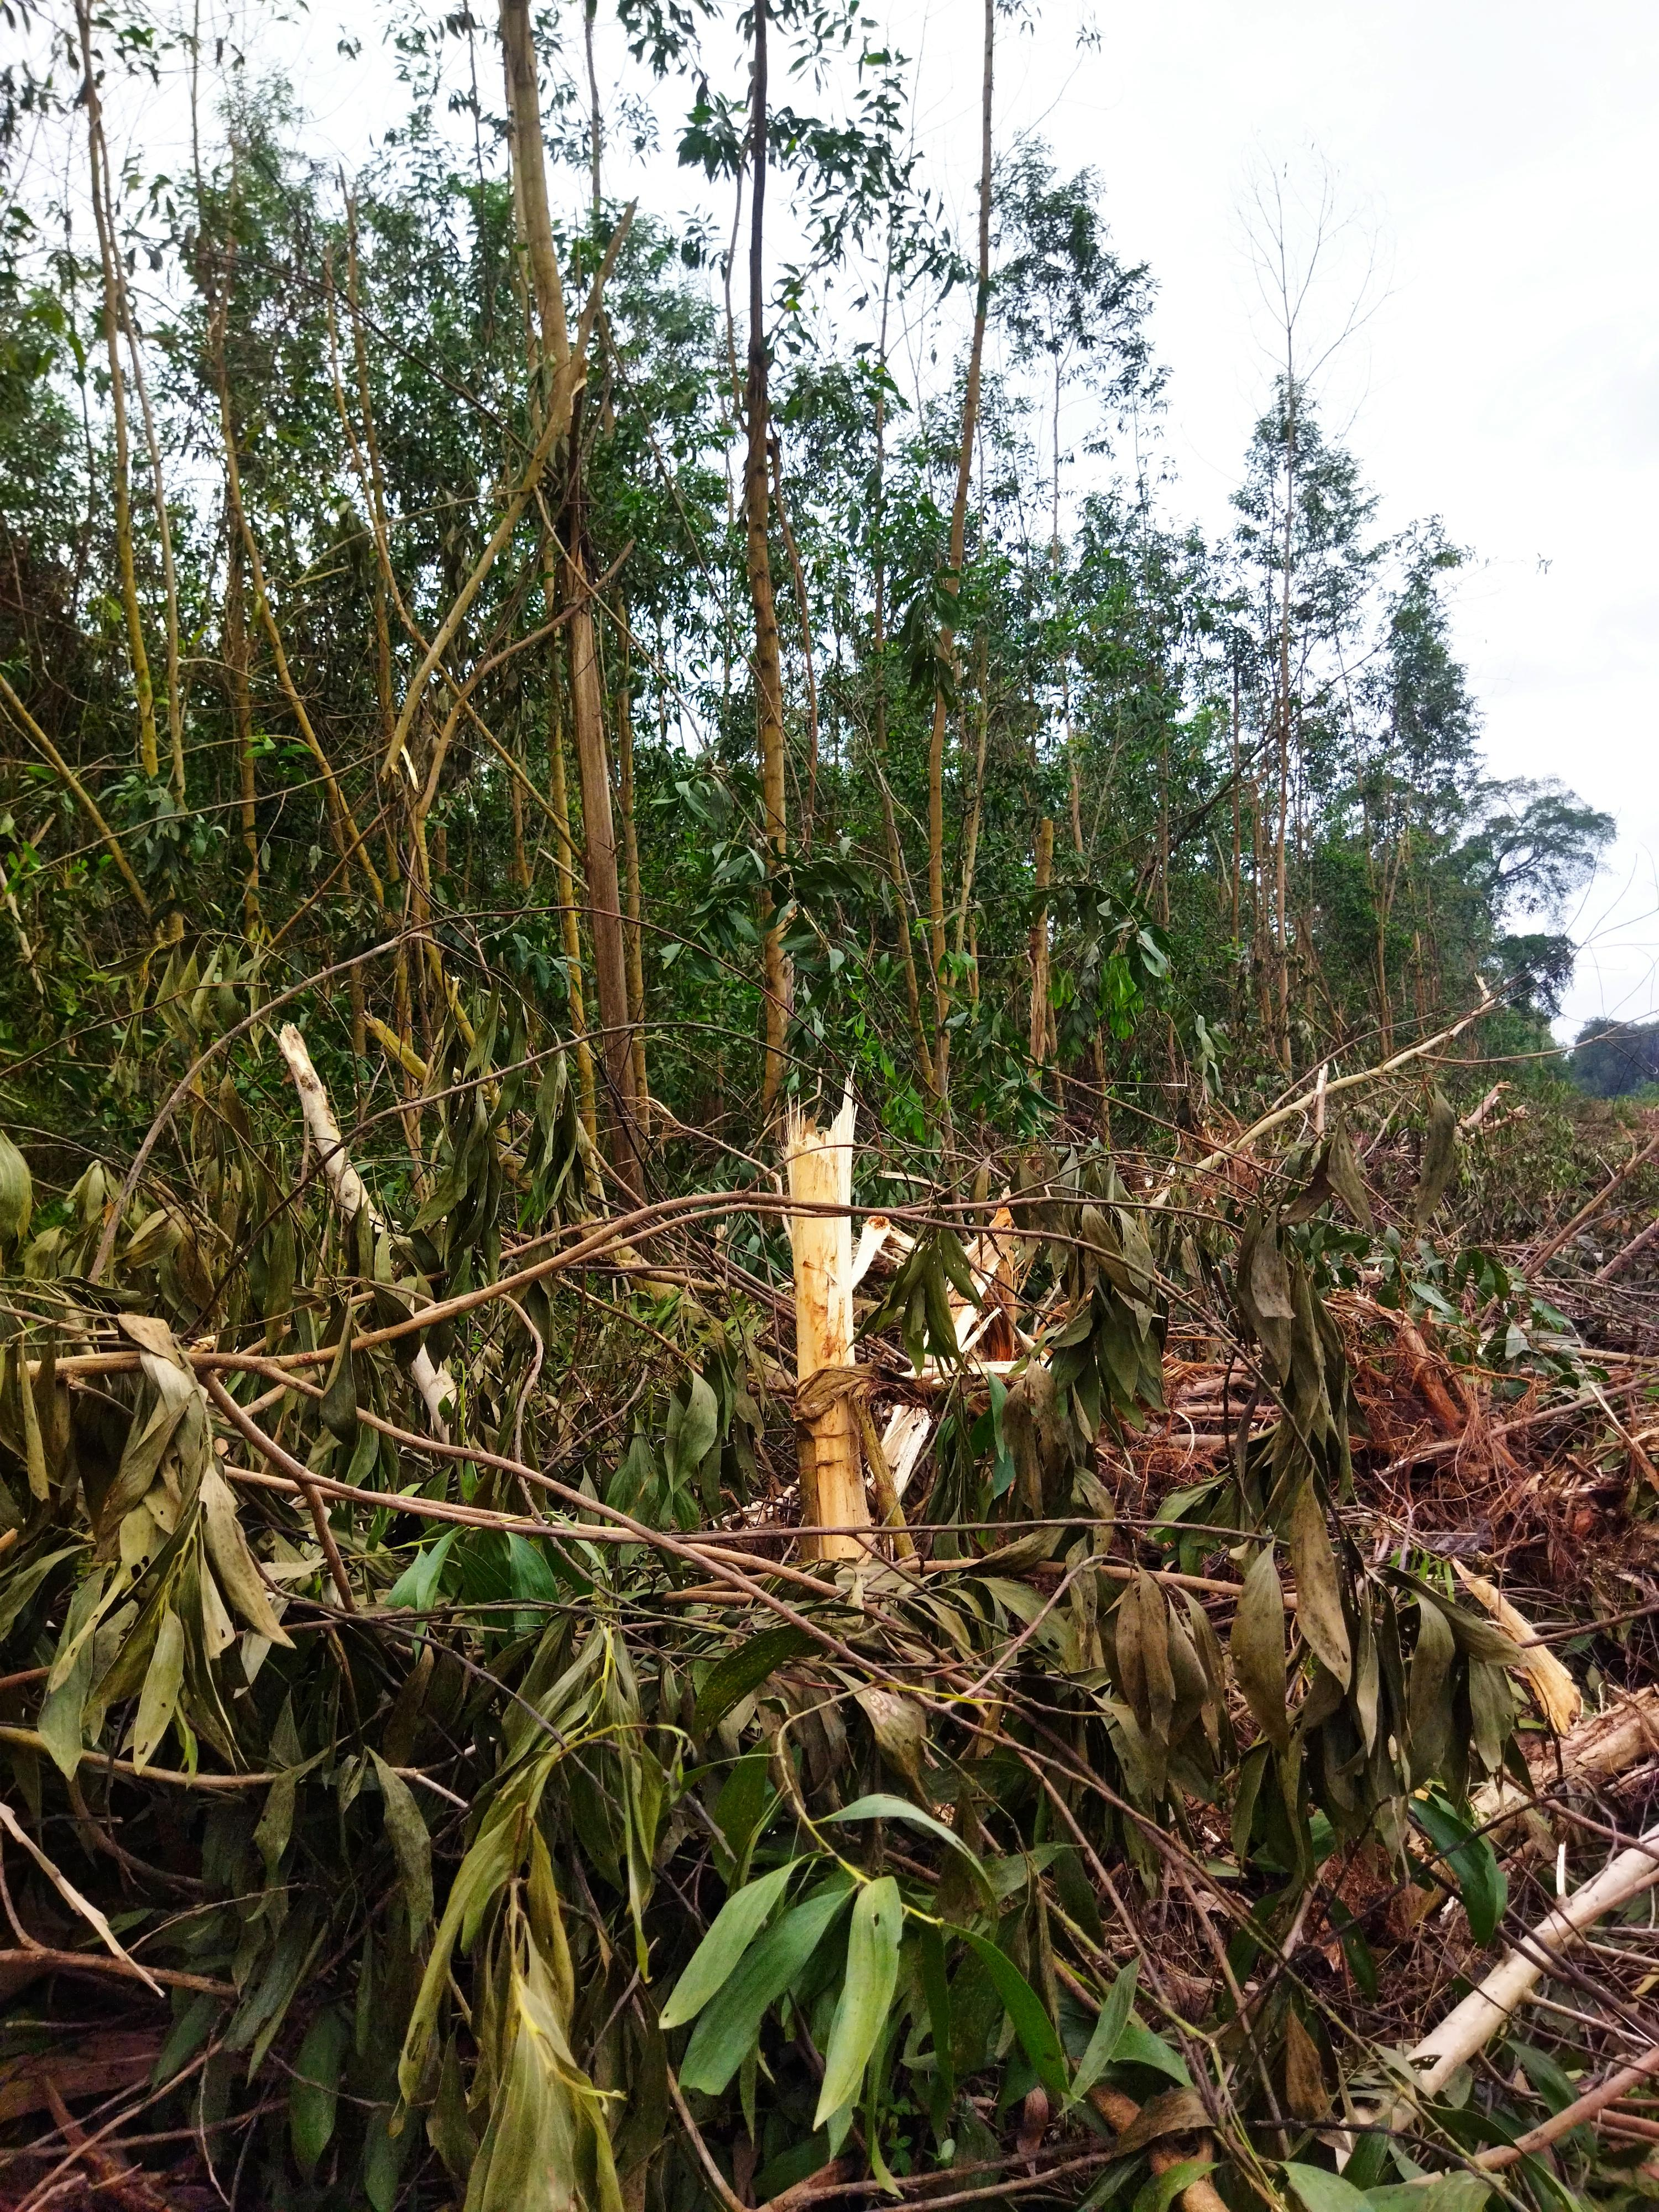Mammals Attack: (714, 1113, 1028, 1575)
